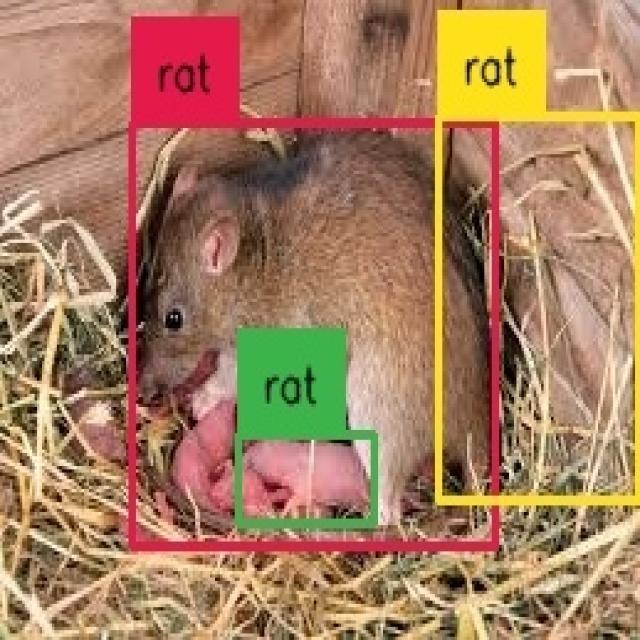rat: (134, 123, 496, 547), (440, 115, 640, 502), (237, 435, 376, 523)
